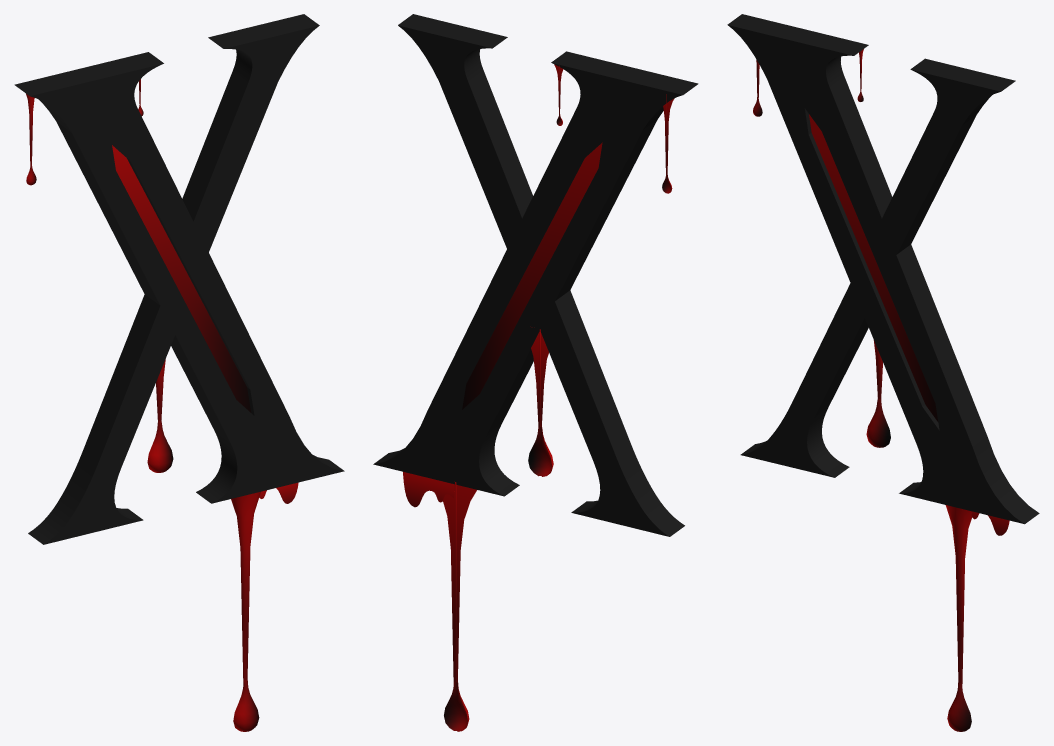
3 renders of one model, left to right at view 1: azimuth 30°, elevation 25°; view 2: azimuth 150°, elevation 25°; view 3: azimuth 330°, elevation 25°, orthographic. The views are drawn at different scales.
Parts seen in each view (by area): view 1: X, X_Element, Blood_206, Blood_196; view 2: X, X_Element, Blood_206, Blood_196, Blood_204; view 3: X, X_Element, Blood_206, Blood_196.
Boxes of the visible parts, x1,y1,x2,y2 form: X: (14,14,344,544); X_Element: (112,145,251,412); Blood_206: (231,491,260,731); Blood_196: (147,359,173,472); X: (373,14,698,536); X_Element: (462,142,602,409); Blood_206: (442,482,476,731); Blood_196: (528,329,553,476); Blood_204: (403,472,454,507); X: (727,14,1039,524); X_Element: (809,114,938,421); Blood_206: (945,505,972,731); Blood_196: (866,340,890,447).
Size of the model in its own units: 57.84 by 123 by 5.05.
2 materials, 1 textured.
